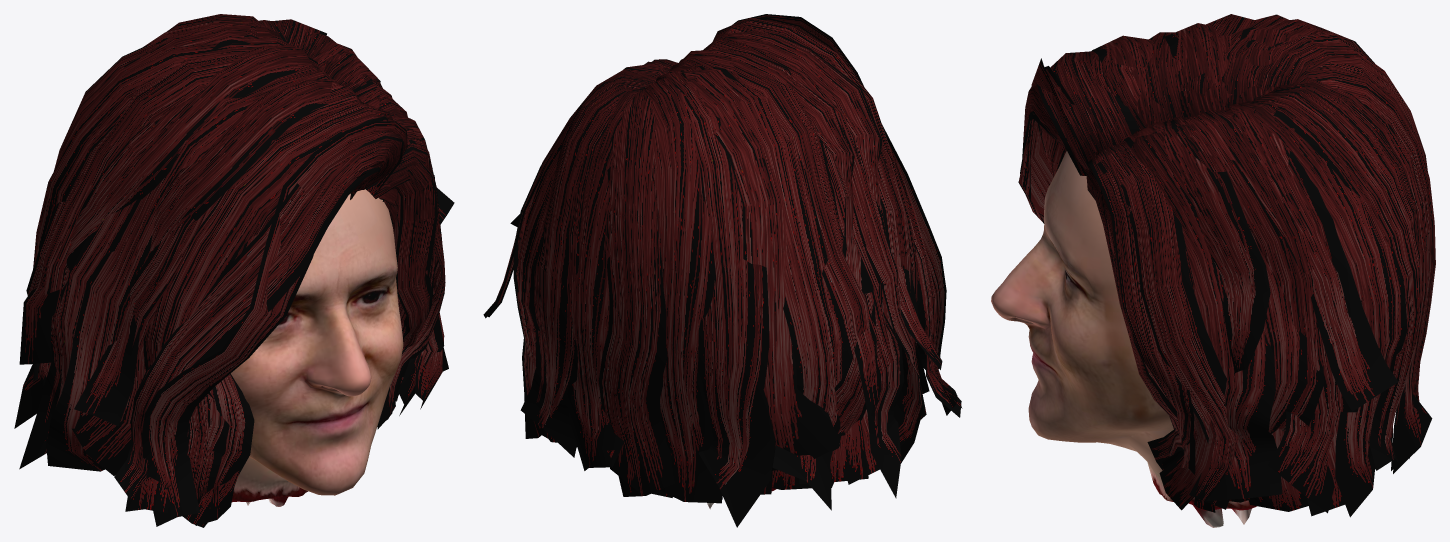
Rendered from Head_2.fbx.
The picture shows the model from 3 angles, left to right: view 1: azimuth 30°, elevation 25°; view 2: azimuth 150°, elevation 25°; view 3: azimuth 270°, elevation 25°; orthographic projection. The views are drawn at different scales.
Visible parts, largest first — view 1: avaturn_hair_1, avaturn_body, avaturn_hair_0; view 2: avaturn_hair_1, avaturn_hair_0; view 3: avaturn_hair_1, avaturn_body, avaturn_hair_0.
Part boxes in pixels (left/top/right/bottom): avaturn_hair_1: left=14, top=14, right=454, bottom=527; avaturn_body: left=231, top=189, right=403, bottom=506; avaturn_hair_0: left=78, top=191, right=444, bottom=512; avaturn_hair_1: left=483, top=14, right=962, bottom=527; avaturn_hair_0: left=542, top=248, right=961, bottom=499; avaturn_hair_1: left=1020, top=14, right=1435, bottom=517; avaturn_body: left=991, top=151, right=1256, bottom=527; avaturn_hair_0: left=1018, top=120, right=1429, bottom=516.
Size of the model in its own units: 0.2968 by 0.3185 by 0.2608.
3 materials, 3 textured.
